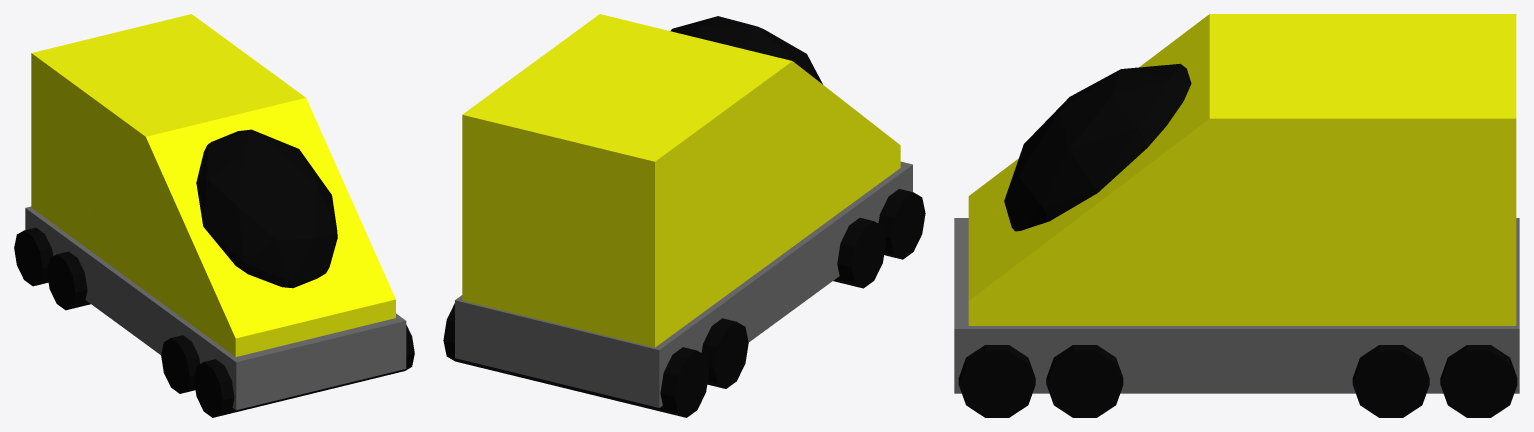
File: Bullet.glb
3 views of the same model, side by side, from view 1: azimuth 30°, elevation 25°; view 2: azimuth 150°, elevation 25°; view 3: azimuth 270°, elevation 25° (orthographic). The views are drawn at different scales.
Visible parts, largest first — view 1: Cube.020; view 2: Cube.020; view 3: Cube.020.
Boxes of the visible parts, box(x1,y1,x2,y2) form: Cube.020: box(14, 14, 414, 417); Cube.020: box(443, 14, 925, 417); Cube.020: box(954, 14, 1519, 417).
Bounding box in the file's own units: 2.26 × 2.43 × 4.3.
